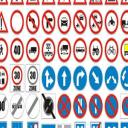NoVirarDireita: (42, 9, 56, 34)
NoVirarEsquerda: (26, 8, 40, 36)
speed_limit_40: (9, 37, 24, 63)
